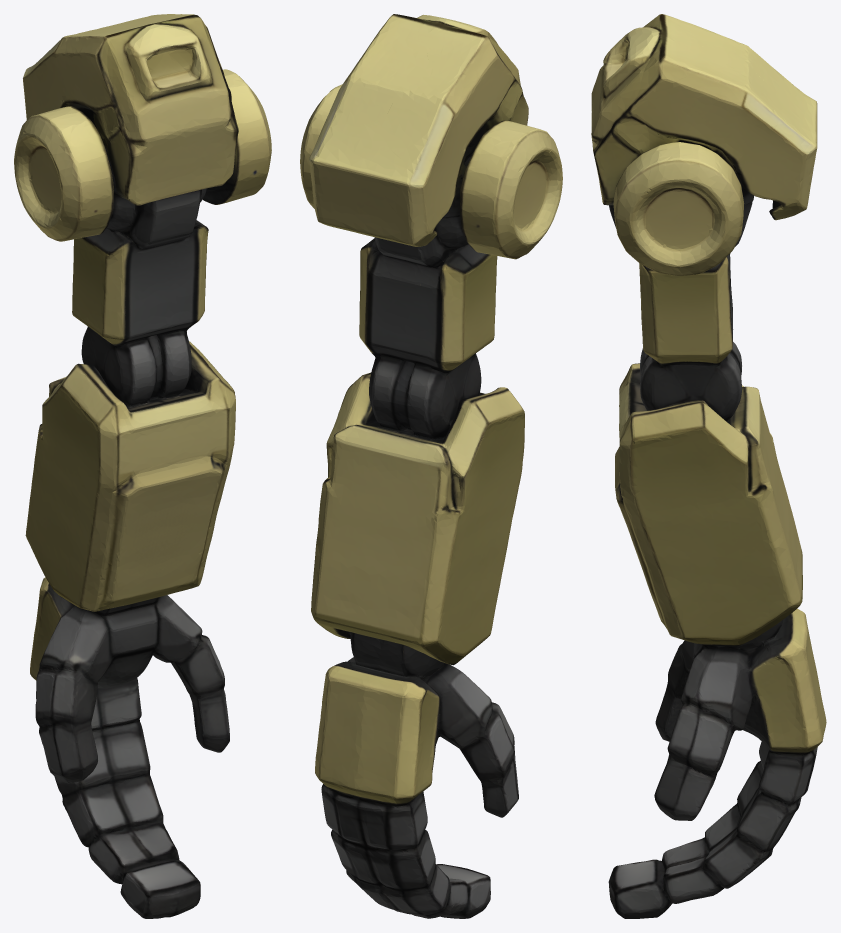
File: arms.glb
3 views of the same model, side by side, from view 1: azimuth 30°, elevation 25°; view 2: azimuth 150°, elevation 25°; view 3: azimuth 270°, elevation 25° (orthographic). The views are drawn at different scales.
Visible parts, largest first — view 1: geometry_0; view 2: geometry_0; view 3: geometry_0.
Part boxes in pixels (x1,y1,x2,y2): geometry_0: (14, 14, 271, 918); geometry_0: (300, 14, 562, 918); geometry_0: (591, 14, 826, 918).
Bounding box in the file's own units: 0.2501 × 1 × 0.2432.
Materials: 1 (1 with a texture image).
